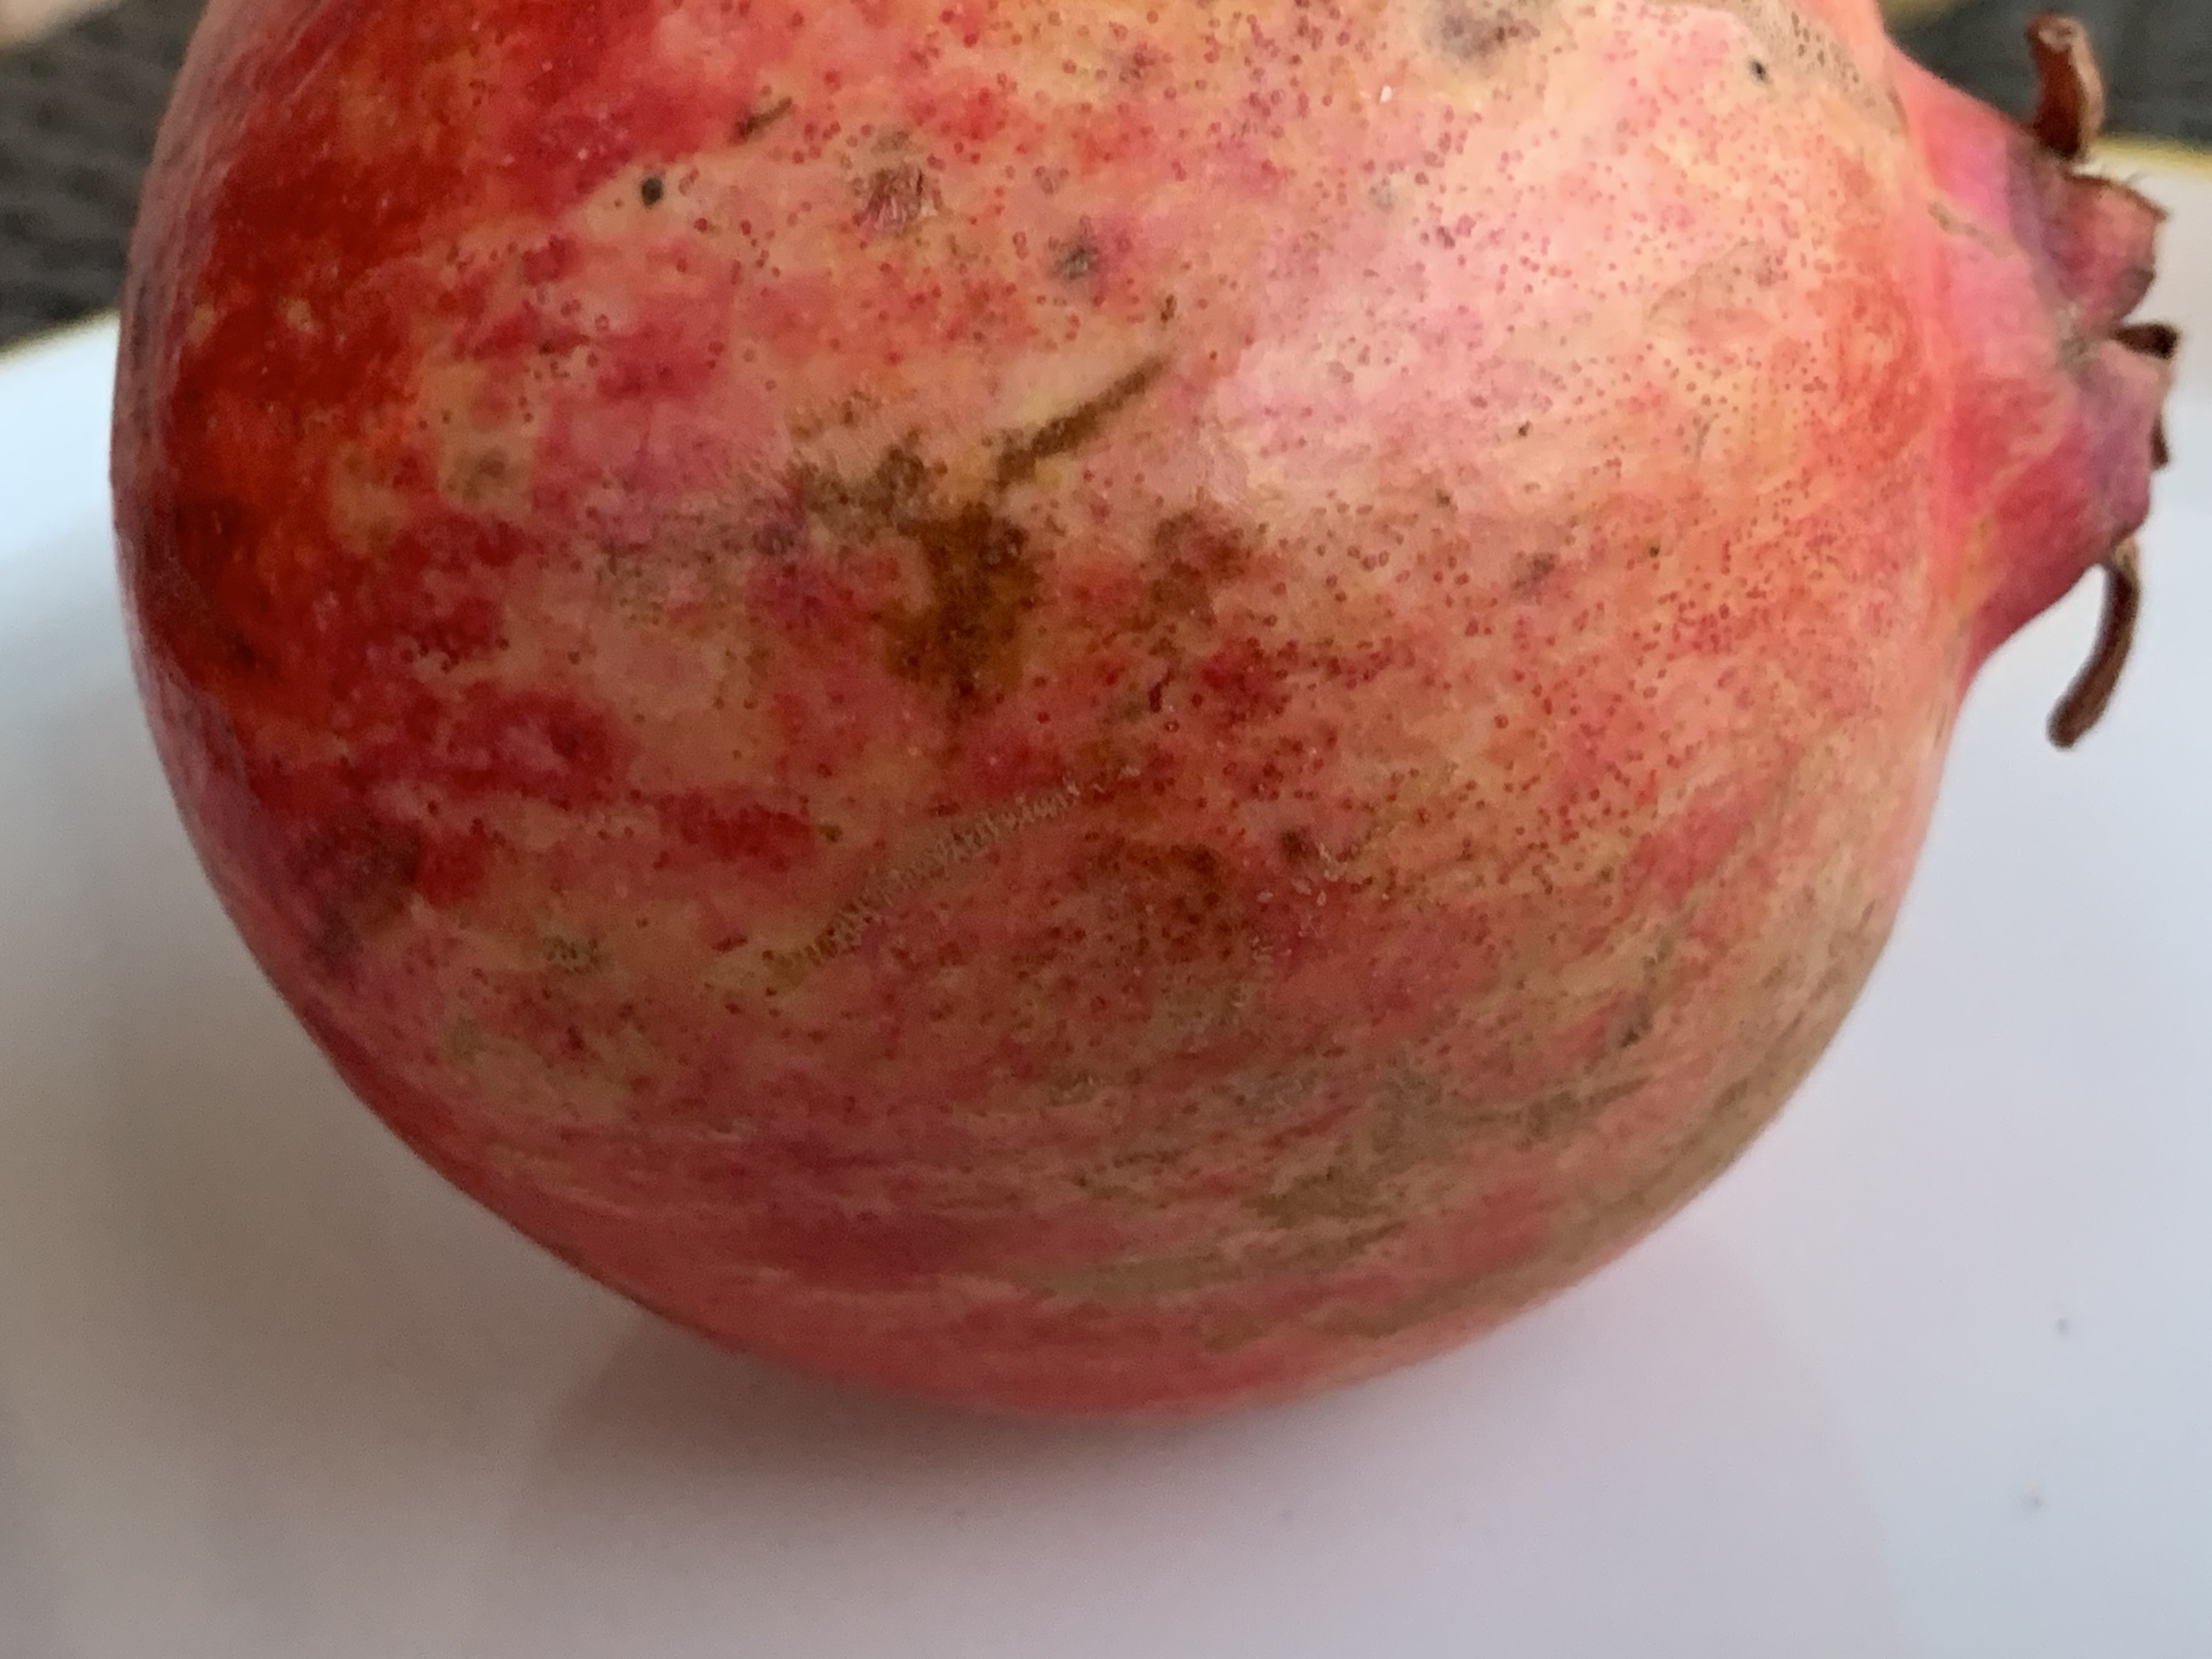Pomegranate: (108, 9, 2181, 1422)
